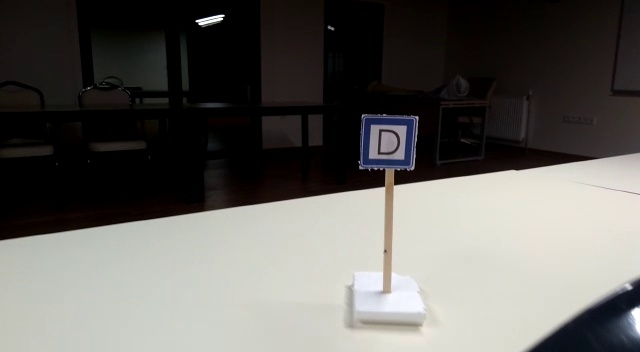durak: (359, 115, 418, 168)
